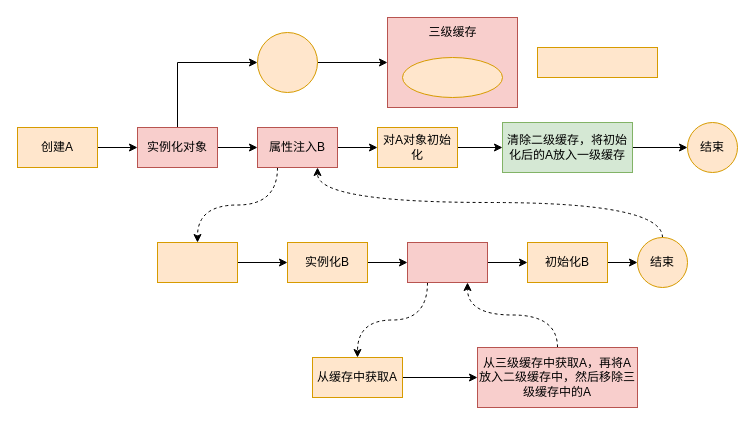
Some shapes in this 755 by 425 pixel diagram are drawn without their labels. The shapes that lost their labels are listed below. From the top down, each one's centre as x and y in pixels, then its label:
At (x=287, y=62): "A对象".
At (x=452, y=77): "A对象的工厂".
At (x=597, y=62): "直接返回A的对象".
At (x=197, y=262): "创建B".
At (x=447, y=262): "属性注入A".
